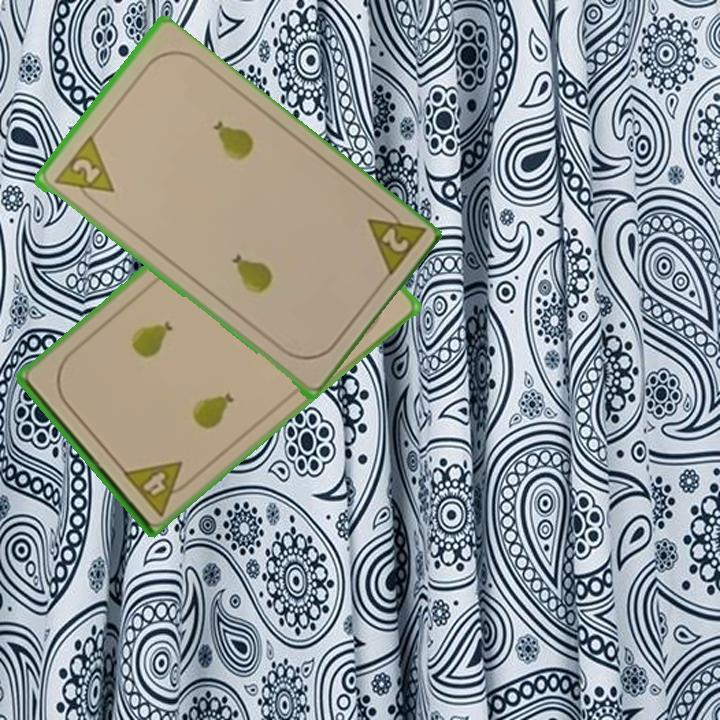2p: (362, 199, 427, 282), (49, 134, 117, 209)
4p: (118, 457, 197, 519)
